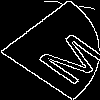M: (24, 25, 100, 87)
